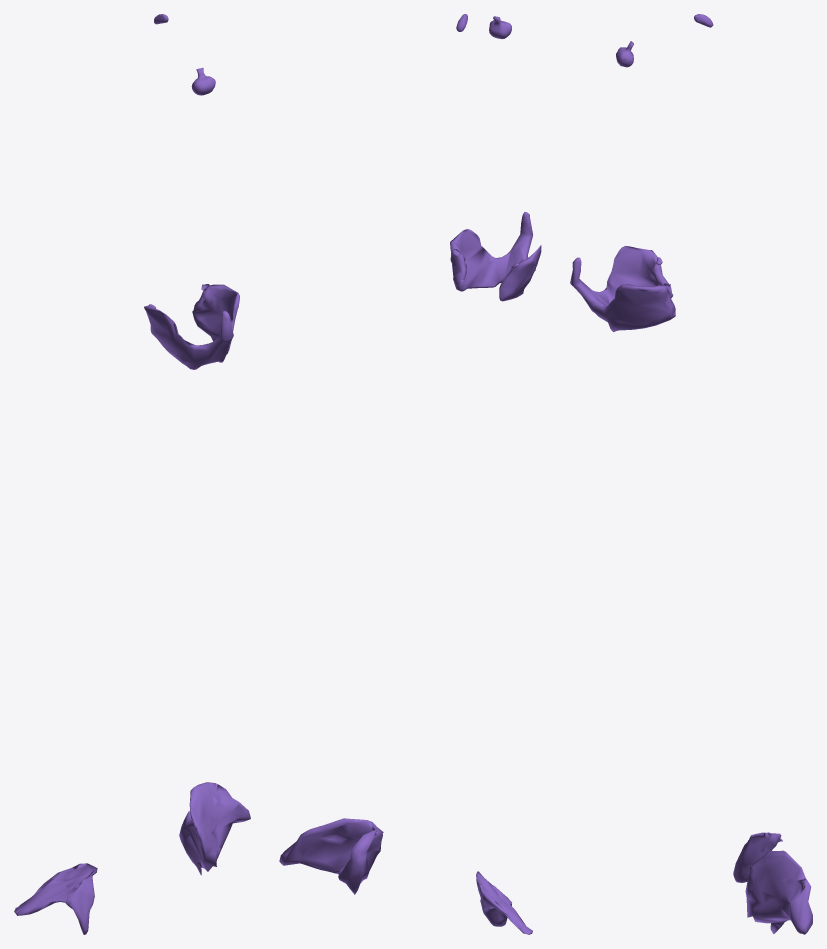
The model's file is endocrine.glb.
3 renders of one model, left to right at view 1: azimuth 30°, elevation 25°; view 2: azimuth 150°, elevation 25°; view 3: azimuth 270°, elevation 25°, orthographic. The views are drawn at different scales.
Parts seen in each view (by area): view 1: W_ZAE5933B68, W_FJ3129, W_FJ3130; view 2: W_FJ3129, W_ZAE5933B68, W_FJ3130; view 3: W_ZAE5933B68, W_FJ3129, W_FJ3130.
Boxes of the visible parts, box(x1,y1,x2,y2) form: W_ZAE5933B68: box(144, 284, 239, 369); W_FJ3129: box(179, 782, 250, 875); W_FJ3130: box(14, 863, 97, 934); W_FJ3129: box(279, 818, 383, 894); W_ZAE5933B68: box(450, 212, 541, 301); W_FJ3130: box(476, 871, 532, 934); W_ZAE5933B68: box(570, 246, 675, 331); W_FJ3129: box(745, 850, 812, 934); W_FJ3130: box(733, 832, 782, 882).
Size of the model in its own units: 0.132 by 0.4689 by 0.1152.
